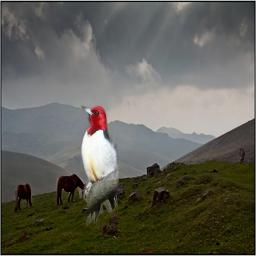Woodpecker: (79, 105, 119, 227)
